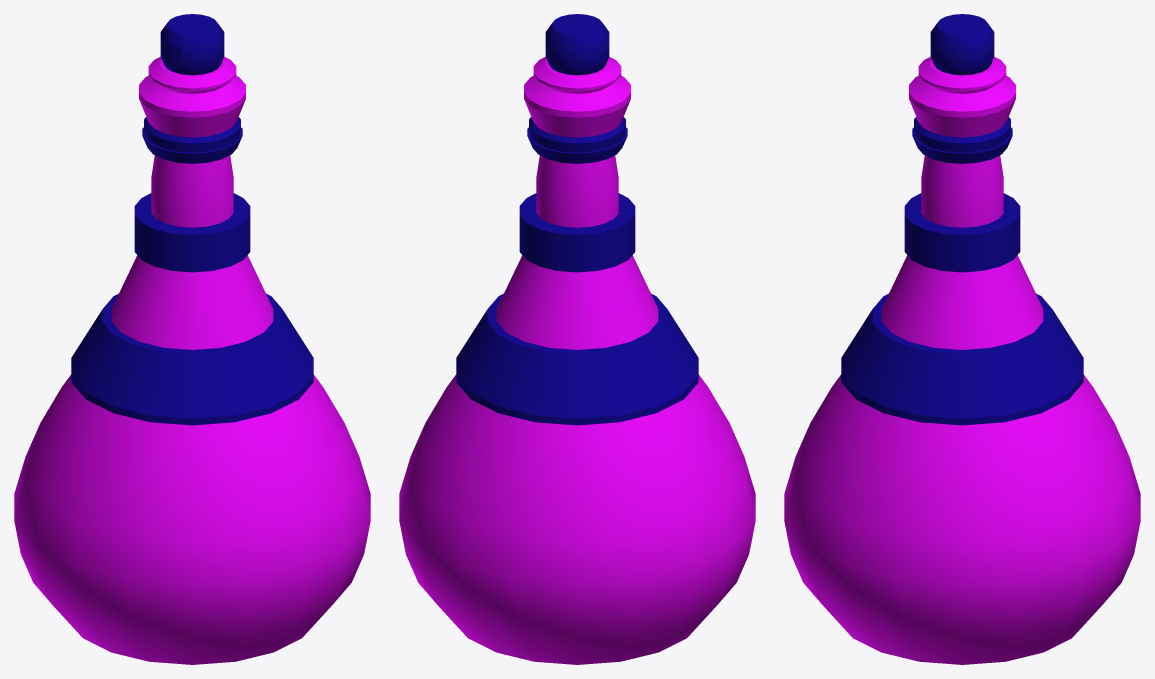
The model's file is potion2.FBX.
3 views of the same model, side by side, from view 1: azimuth 30°, elevation 25°; view 2: azimuth 150°, elevation 25°; view 3: azimuth 270°, elevation 25° (orthographic).
Parts seen in each view (by area): view 1: Potion 2; view 2: Potion 2; view 3: Potion 2.
Boxes of the visible parts, x1=… form: Potion 2: x1=14, y1=14, x2=370, y2=664; Potion 2: x1=399, y1=14, x2=755, y2=664; Potion 2: x1=784, y1=14, x2=1140, y2=664.
Size of the model in its own units: 15.34 by 27.43 by 15.11.
